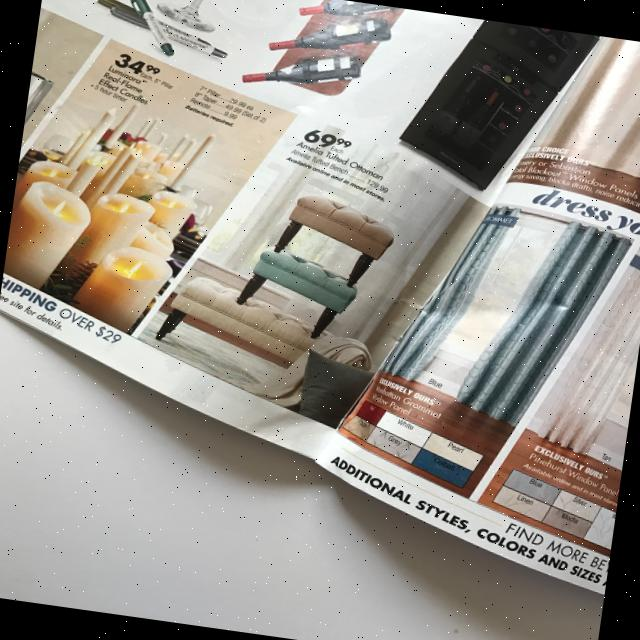paper: (0, 0, 640, 599)
